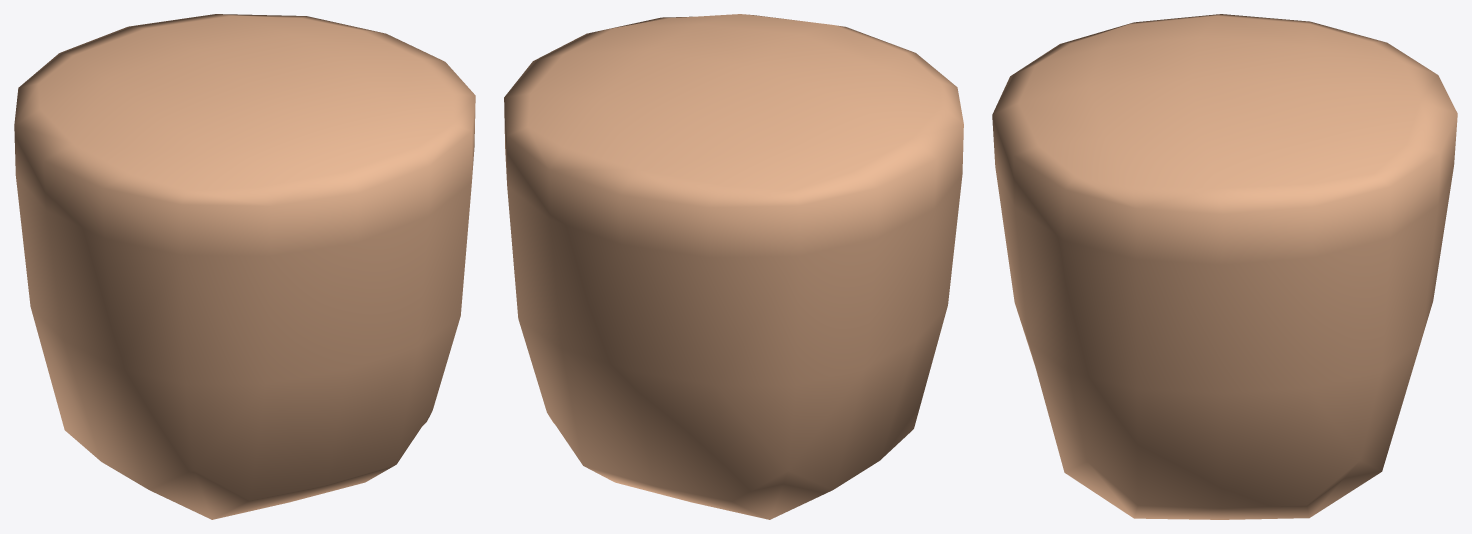
The model's file is AIUE_V1_005_footrest.fbx.
The picture shows the model from 3 angles, left to right: view 1: azimuth 30°, elevation 25°; view 2: azimuth 150°, elevation 25°; view 3: azimuth 270°, elevation 25°; orthographic projection.
Parts seen in each view (by area): view 1: AIUE_V1_005_footrest__1_; view 2: AIUE_V1_005_footrest__1_; view 3: AIUE_V1_005_footrest__1_.
Part boxes in pixels (x1=…): AIUE_V1_005_footrest__1_: x1=14, y1=14, x2=475, y2=519; AIUE_V1_005_footrest__1_: x1=504, y1=14, x2=963, y2=519; AIUE_V1_005_footrest__1_: x1=992, y1=14, x2=1457, y2=519.
Size of the model in its own units: 58.71 by 54.48 by 57.7.
